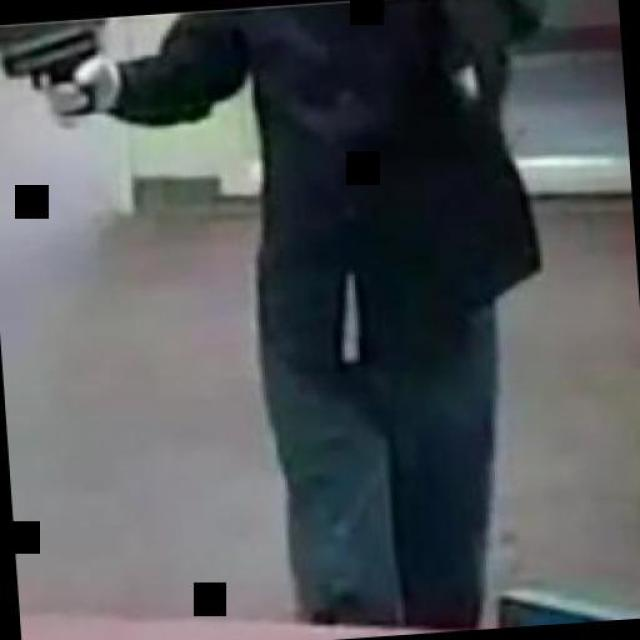gun: (0, 20, 102, 120)
